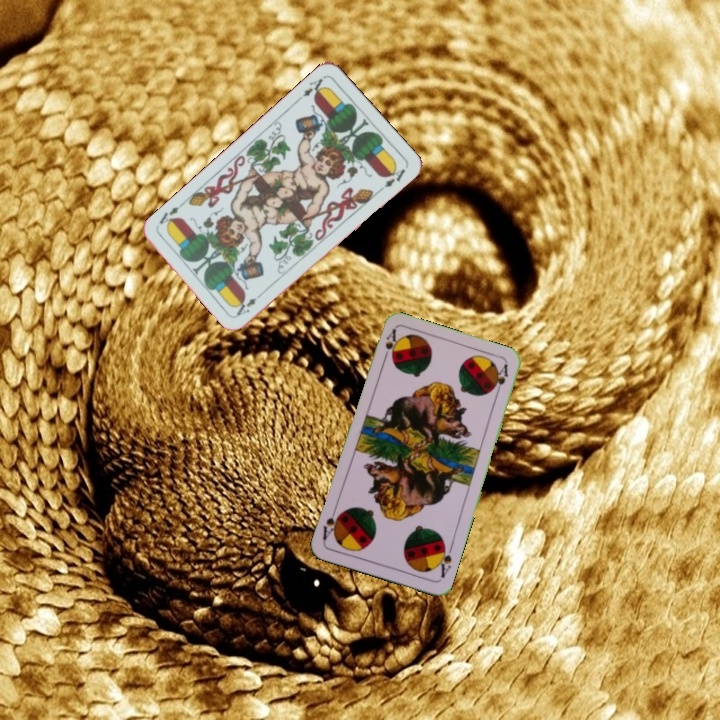EA: (232, 288, 266, 319), (293, 73, 328, 103)
SA: (432, 540, 455, 580), (379, 325, 399, 365)
